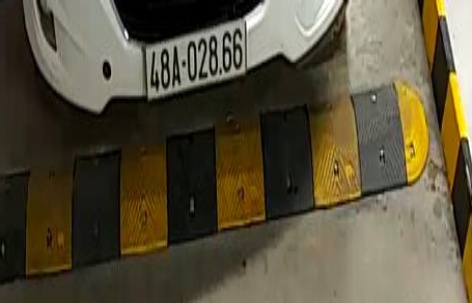plate: (141, 20, 253, 101)
